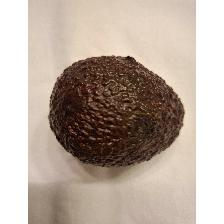Avocado: (47, 53, 189, 169)
